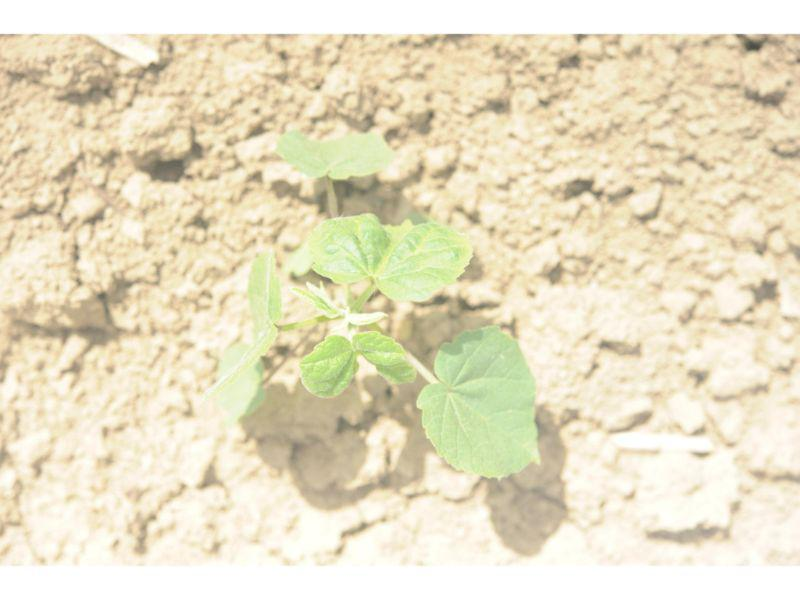velvet: (214, 126, 540, 479)
